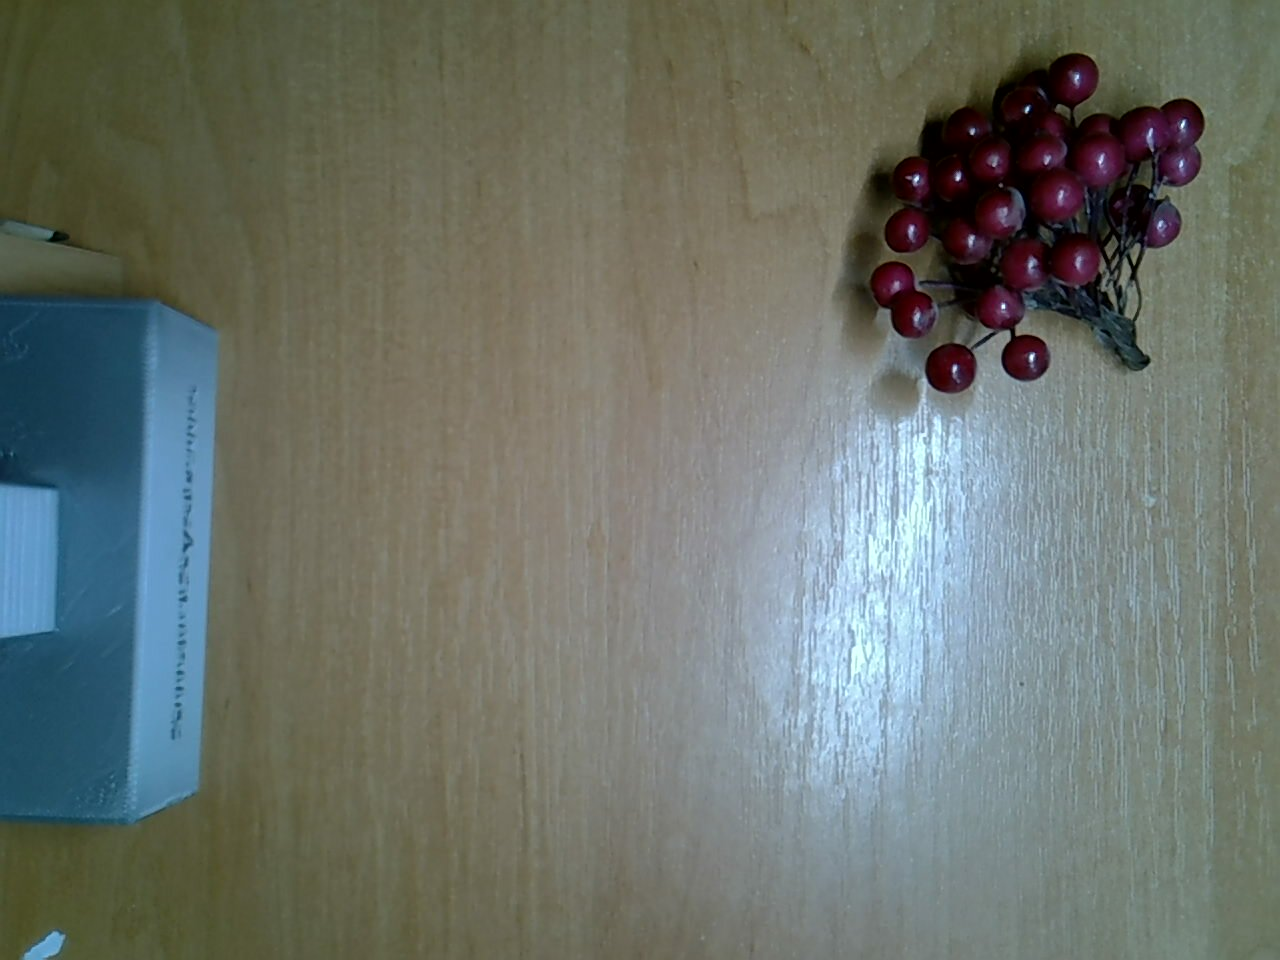berries: (860, 34, 1219, 397)
